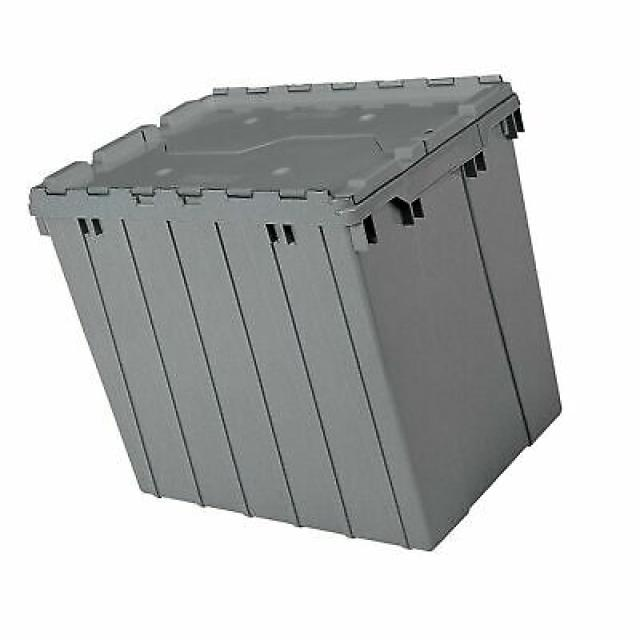basket: (17, 50, 576, 594)
